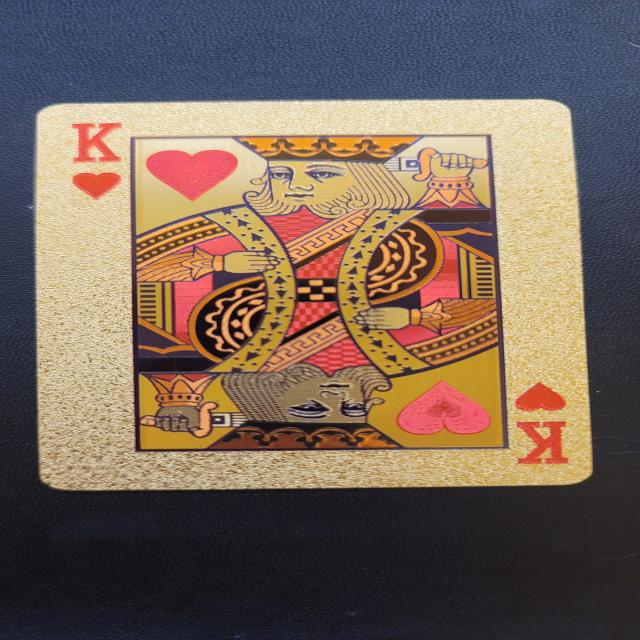King of hearts: (34, 99, 594, 490)
